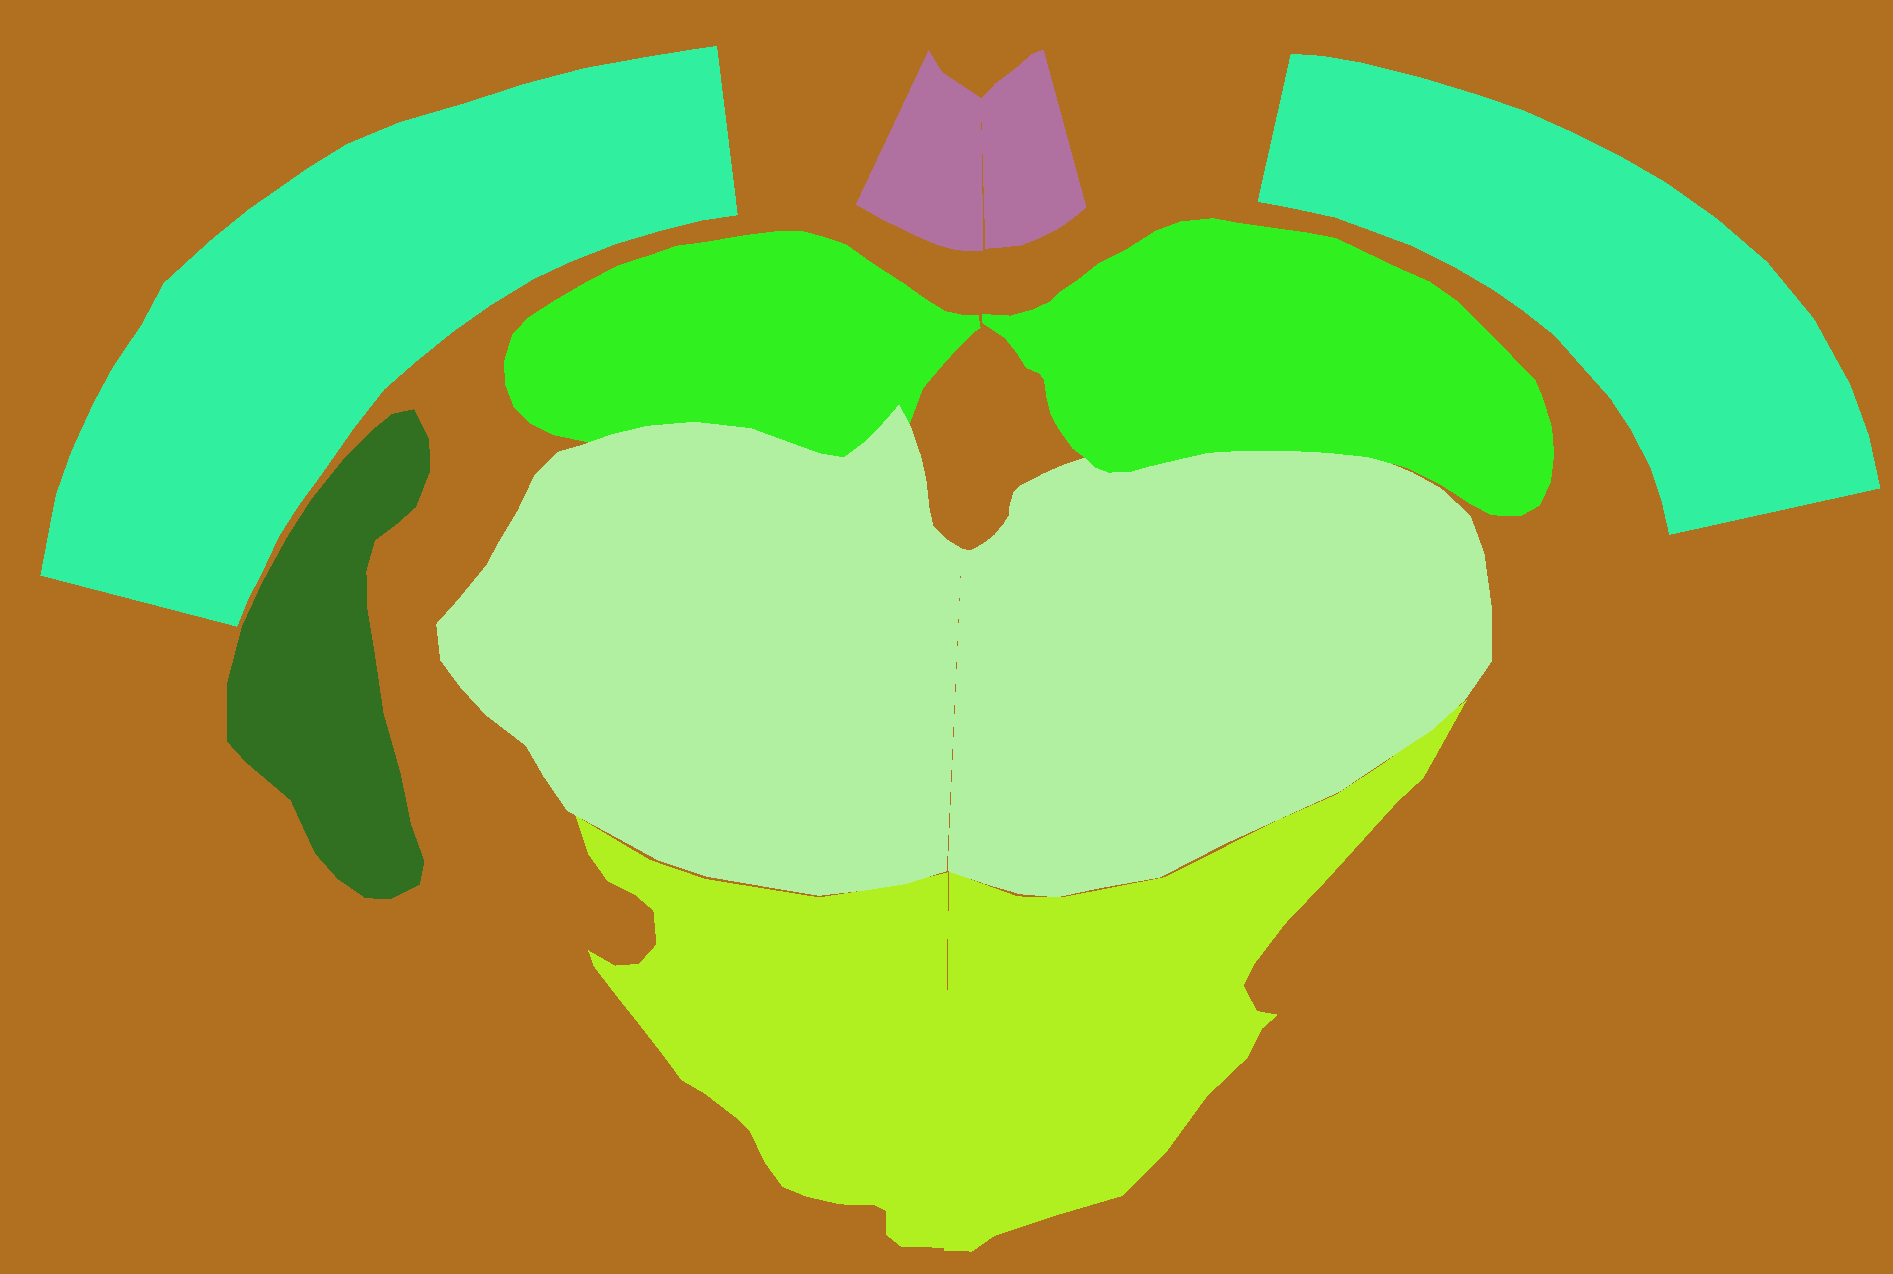Cerebral nuclei: (227, 409, 431, 899)
Hippocampal formation: (982, 218, 1553, 516), (505, 230, 981, 473)
Hypothalamus: (944, 700, 1467, 1253), (576, 815, 948, 1247)
Retrosplenial area: (856, 50, 983, 252), (981, 50, 1087, 249)
Somatosensory area: (40, 45, 738, 627), (1258, 54, 1882, 535)
Thalamus: (948, 419, 1494, 899), (436, 404, 962, 896)
